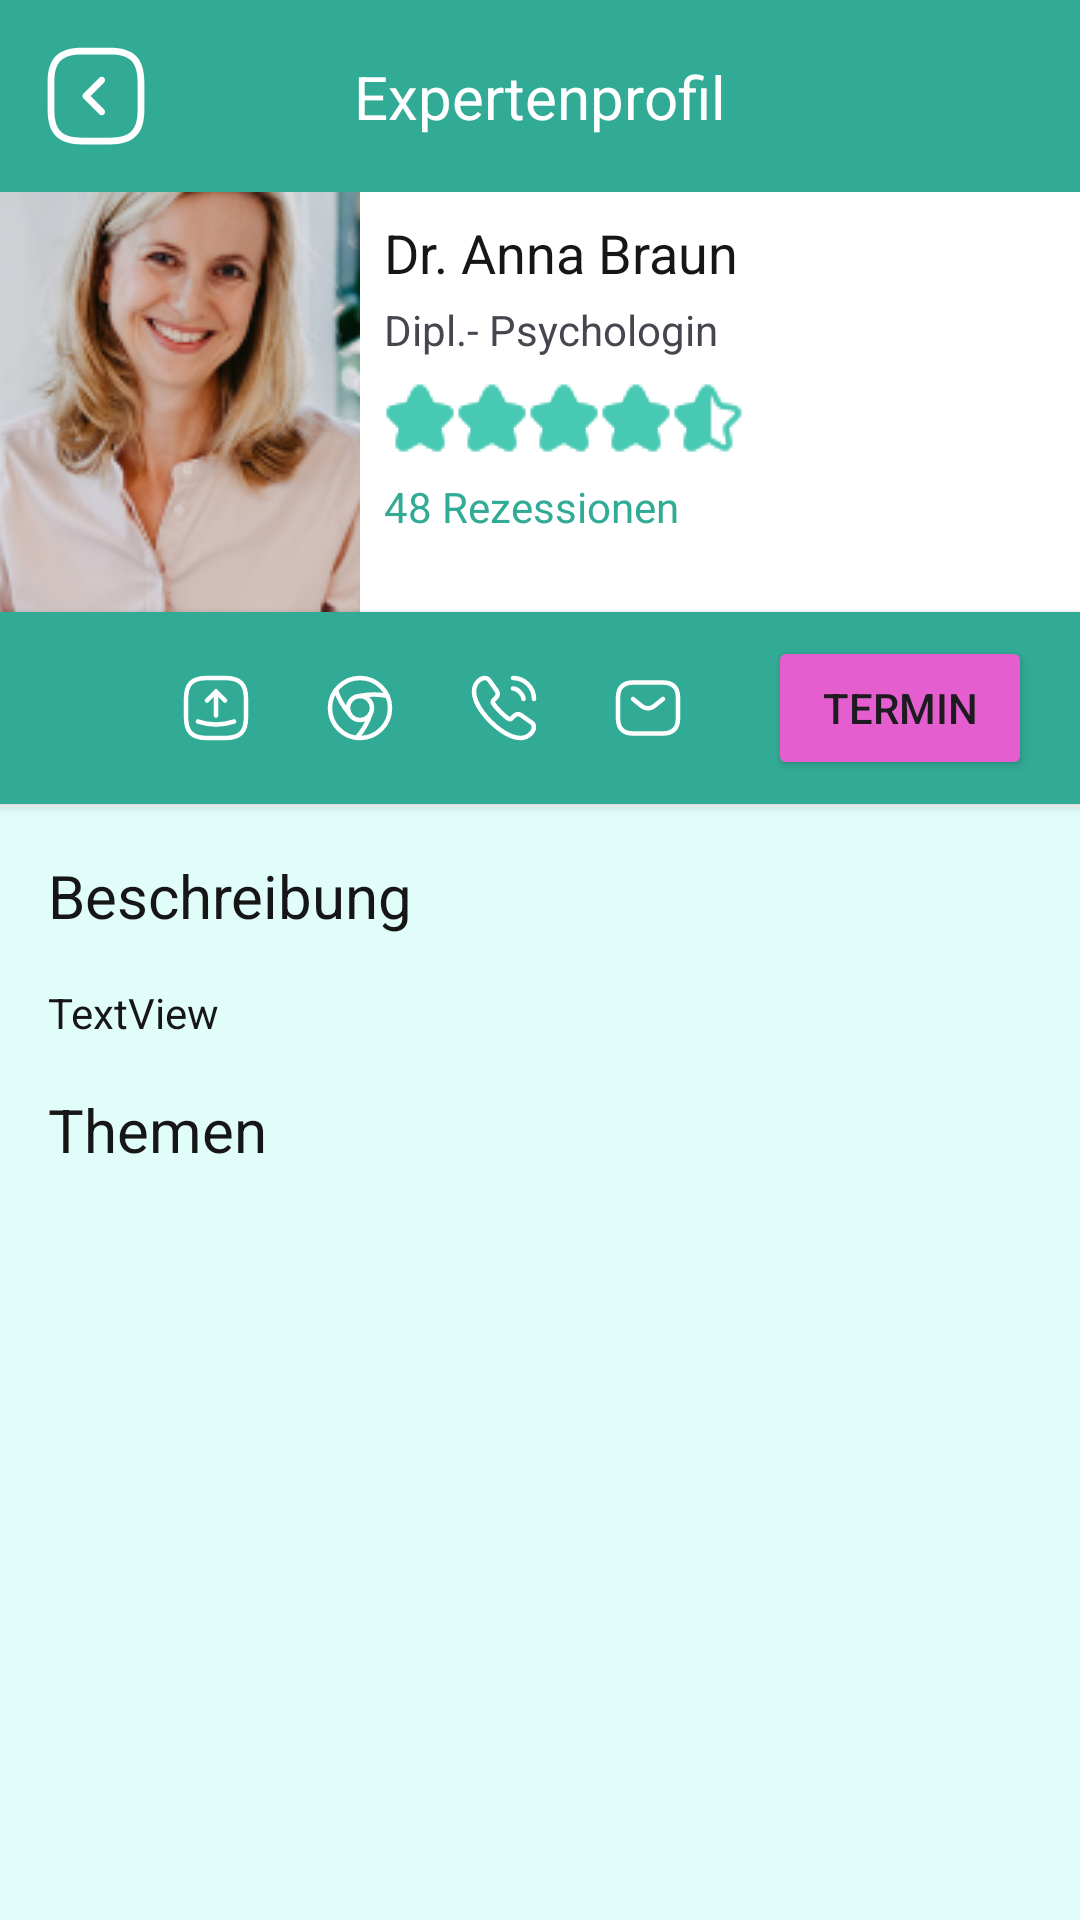

Where icons sit on this 1080px x 1920px app screen, as Rect(x1, y1, x2, y2):
arrow square left: Rect(47, 47, 145, 145)
call: Rect(471, 675, 537, 741)
message: Rect(615, 680, 681, 736)
share: Rect(183, 675, 249, 741)
